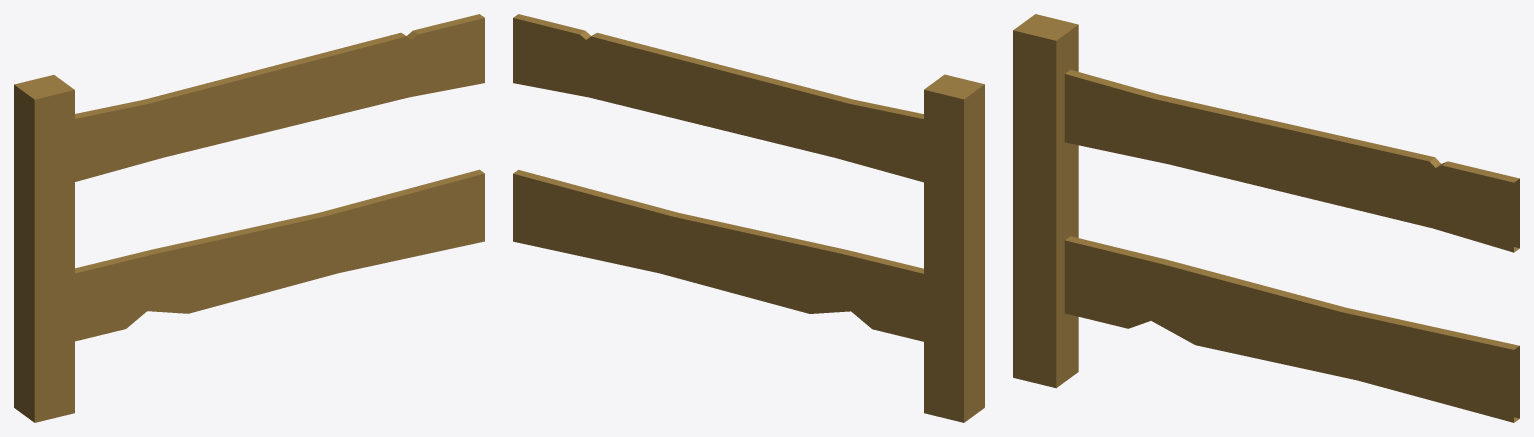
Rendered from SM_WFence_4.fbx.
3 views of the same model, side by side, from view 1: azimuth 30°, elevation 25°; view 2: azimuth 150°, elevation 25°; view 3: azimuth 330°, elevation 25° (orthographic). The views are drawn at different scales.
Parts seen in each view (by area): view 1: Box050; view 2: Box050; view 3: Box050.
Part boxes in pixels (x1,y1,x2,y2): Box050: (14, 14, 484, 422); Box050: (513, 14, 984, 422); Box050: (1013, 14, 1519, 422).
Size of the model in its own units: 157 by 106 by 12.32.
